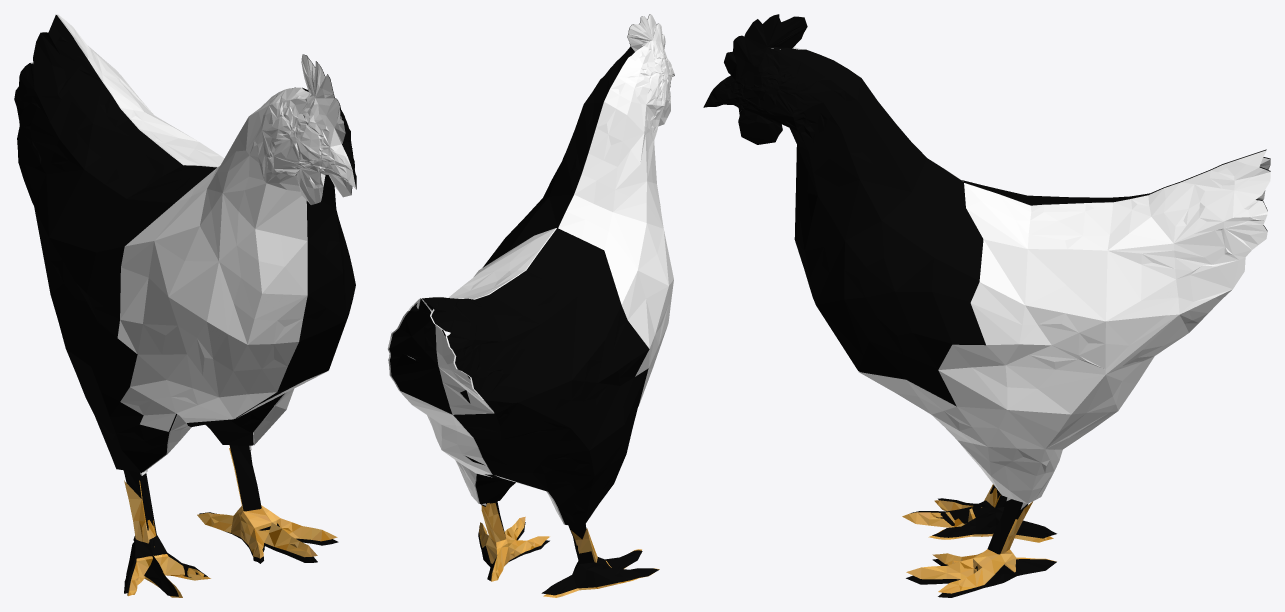
The model's file is Chicken 2.gltf.
3 views of the same model, side by side, from view 1: azimuth 30°, elevation 25°; view 2: azimuth 150°, elevation 25°; view 3: azimuth 270°, elevation 25° (orthographic). The views are drawn at different scales.
Parts seen in each view (by area): view 1: chicken_lp, chicken_lp Neck, chicken_lp Body, chicken_lp Left_Leg, chicken_lp Right_Leg; view 2: chicken_lp, chicken_lp Neck, chicken_lp Body, chicken_lp Left_Leg, chicken_lp Right_Leg; view 3: chicken_lp Body, chicken_lp, chicken_lp Left_Leg, chicken_lp Right_Leg.
Part boxes in pixels (<box>): chicken_lp: <box>14,15,356,596</box>; chicken_lp Neck: <box>117,54,356,431</box>; chicken_lp Body: <box>31,14,327,475</box>; chicken_lp Left_Leg: <box>197,445,337,558</box>; chicken_lp Right_Leg: <box>124,480,210,597</box>; chicken_lp: <box>389,14,662,595</box>; chicken_lp Neck: <box>558,14,674,405</box>; chicken_lp Body: <box>387,228,567,525</box>; chicken_lp Left_Leg: <box>479,503,549,581</box>; chicken_lp Right_Leg: <box>543,528,659,597</box>; chicken_lp Body: <box>859,150,1270,509</box>; chicken_lp: <box>703,14,1270,597</box>; chicken_lp Left_Leg: <box>906,501,1055,593</box>; chicken_lp Right_Leg: <box>902,484,1053,542</box>.
Bounding box in the file's own units: 0.517 × 1.33 × 1.26.
4 materials, 3 textured.
